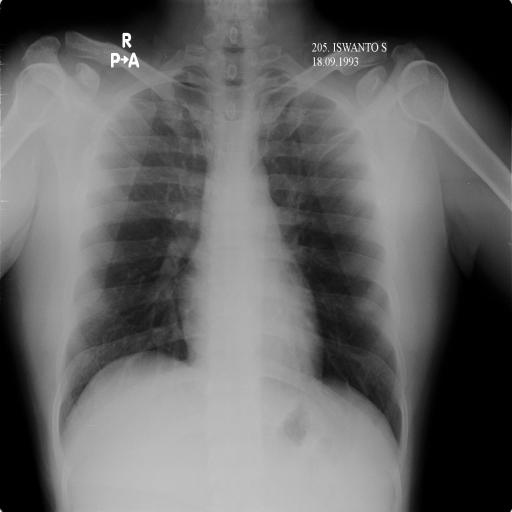normal: (46, 41, 412, 454)
